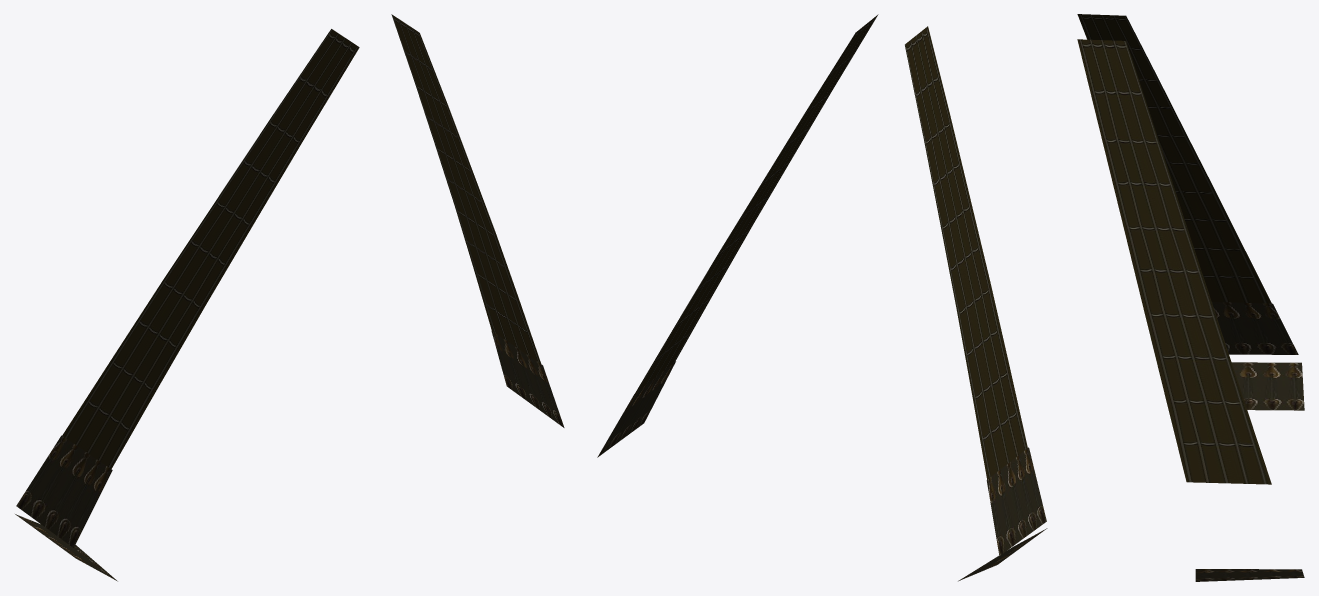
File: warshipL1-rigging_1.fbx
3 renders of one model, left to right at view 1: azimuth 30°, elevation 25°; view 2: azimuth 150°, elevation 25°; view 3: azimuth 270°, elevation 25°, orthographic. The views are drawn at different scales.
Visible parts, largest first — view 1: rigging, pullys_1b, pullys_1b1, riggingmount_pulleys1; view 2: rigging, pullys_1b, pullys_1b1; view 3: rigging, pullys_1b, riggingmount_pulleys1, riggingmount_pulleys2.
Boxes of the visible parts, left/top/right/bottom form: rigging: left=62, top=14, right=541, bottom=468; pullys_1b: left=16, top=435, right=112, bottom=547; pullys_1b1: left=491, top=331, right=564, bottom=427; riggingmount_pulleys1: left=15, top=514, right=117, bottom=581; rigging: left=635, top=14, right=1027, bottom=479; pullys_1b: left=986, top=447, right=1046, bottom=555; pullys_1b1: left=597, top=361, right=675, bottom=457; rigging: left=1077, top=14, right=1271, bottom=484; pullys_1b: left=1212, top=302, right=1298, bottom=354; riggingmount_pulleys1: left=1231, top=362, right=1304, bottom=410; riggingmount_pulleys2: left=1195, top=569, right=1304, bottom=581.
Bounding box in the file's own units: 6710 × 7086 × 3117.
1 material, 1 textured.
